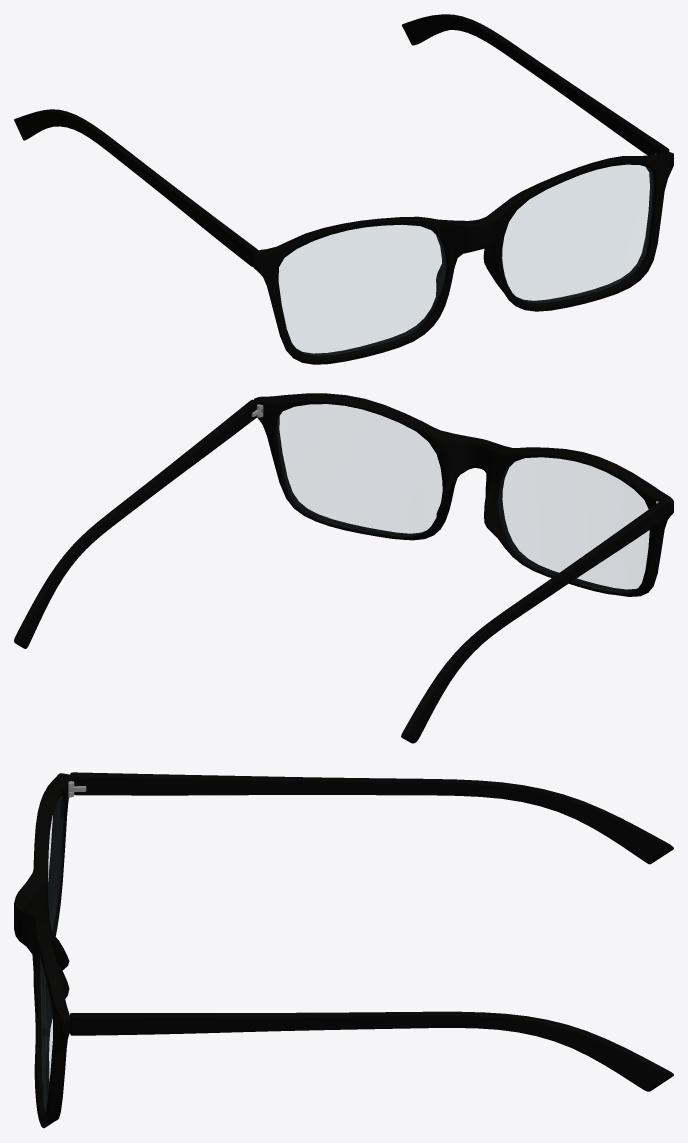
File: Modelo_2.fbx
The picture shows the model from 3 angles, top to bottom: view 1: azimuth 30°, elevation 25°; view 2: azimuth 150°, elevation 25°; view 3: azimuth 270°, elevation 25°; orthographic projection. The views are drawn at different scales.
Parts seen in each view (by area): view 1: lentes_2, Marco_2, Pata_izquierda_2, Pata_derecha_2; view 2: lentes_2, Marco_2, Pata_derecha_2, Pata_izquierda_2; view 3: Pata_izquierda_2, Pata_derecha_2, Marco_2, lentes_2.
Part boxes in pixels (x1,y1,x2,y2): lentes_2: (279,165,652,355); Marco_2: (252,151,673,364); Pata_izquierda_2: (402,14,669,155); Pata_derecha_2: (14,109,257,266); lentes_2: (277,404,648,592); Marco_2: (254,393,673,596); Pata_derecha_2: (401,499,667,743); Pata_izquierda_2: (14,399,257,648); Pata_izquierda_2: (70,1011,673,1091); Pata_derecha_2: (70,772,673,864); Marco_2: (14,773,70,1128); lentes_2: (40,796,63,1110).
Bounding box in the file's own units: 18.58 × 5.71 × 21.06.
